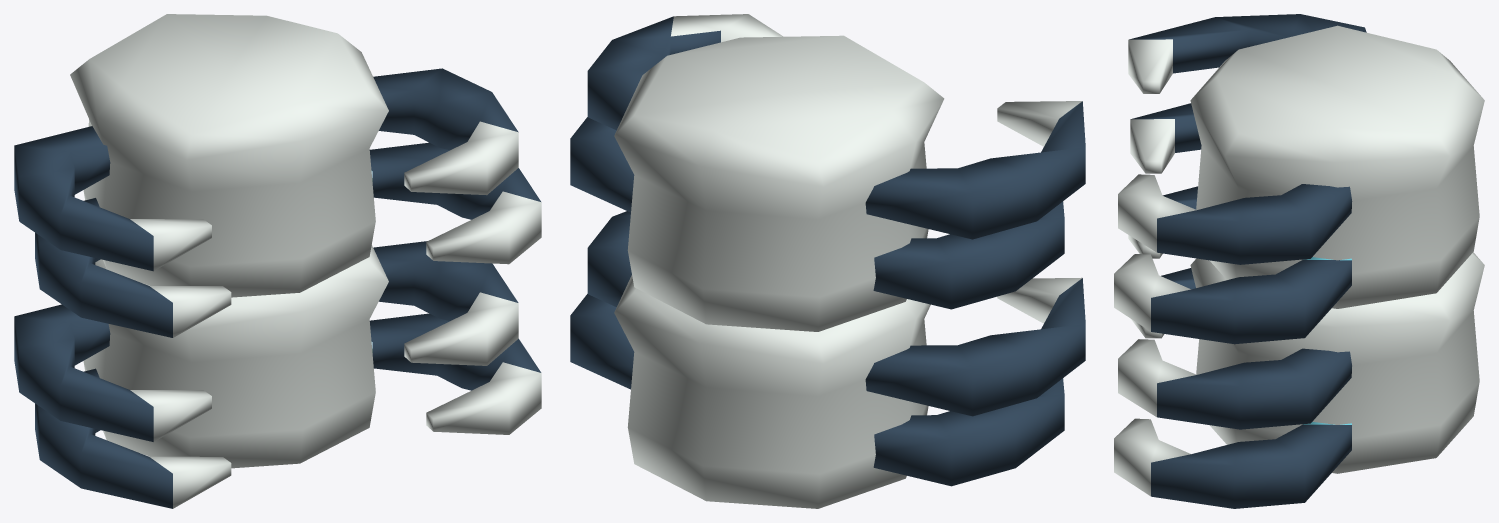
The model's file is SkullCoreBones.fbx.
3 views of the same model, side by side, from view 1: azimuth 30°, elevation 25°; view 2: azimuth 150°, elevation 25°; view 3: azimuth 270°, elevation 25° (orthographic). The views are drawn at different scales.
Parts seen in each view (by area): view 1: SkullCore; view 2: SkullCore; view 3: SkullCore.
Boxes of the visible parts, box(x1,y1,x2,y2) form: SkullCore: box(14, 14, 541, 508); SkullCore: box(570, 14, 1085, 508); SkullCore: box(1114, 14, 1484, 508).
Bounding box in the file's own units: 655 × 489 × 470.
